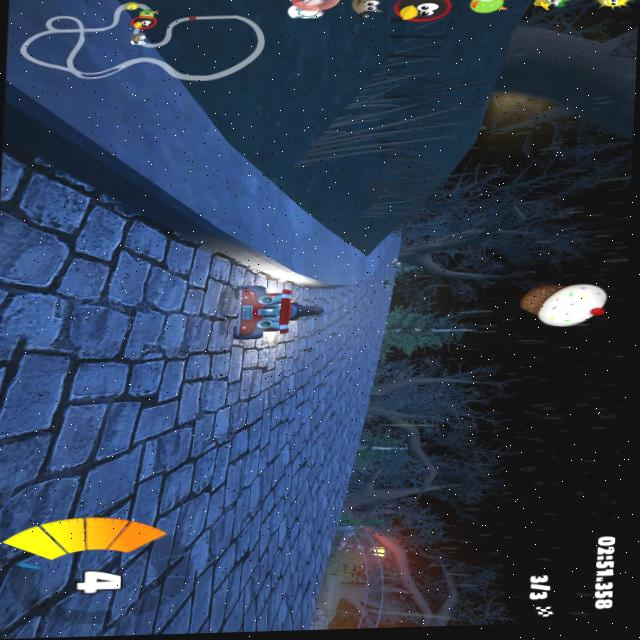enemy_kart: (375, 275, 396, 295), (388, 257, 407, 267)
player_kart: (222, 288, 322, 341)
track: (0, 255, 236, 638), (217, 341, 326, 632), (314, 280, 377, 478), (0, 223, 165, 262), (0, 179, 78, 230), (318, 478, 349, 560), (79, 204, 121, 226), (239, 274, 279, 282), (392, 238, 401, 256)
